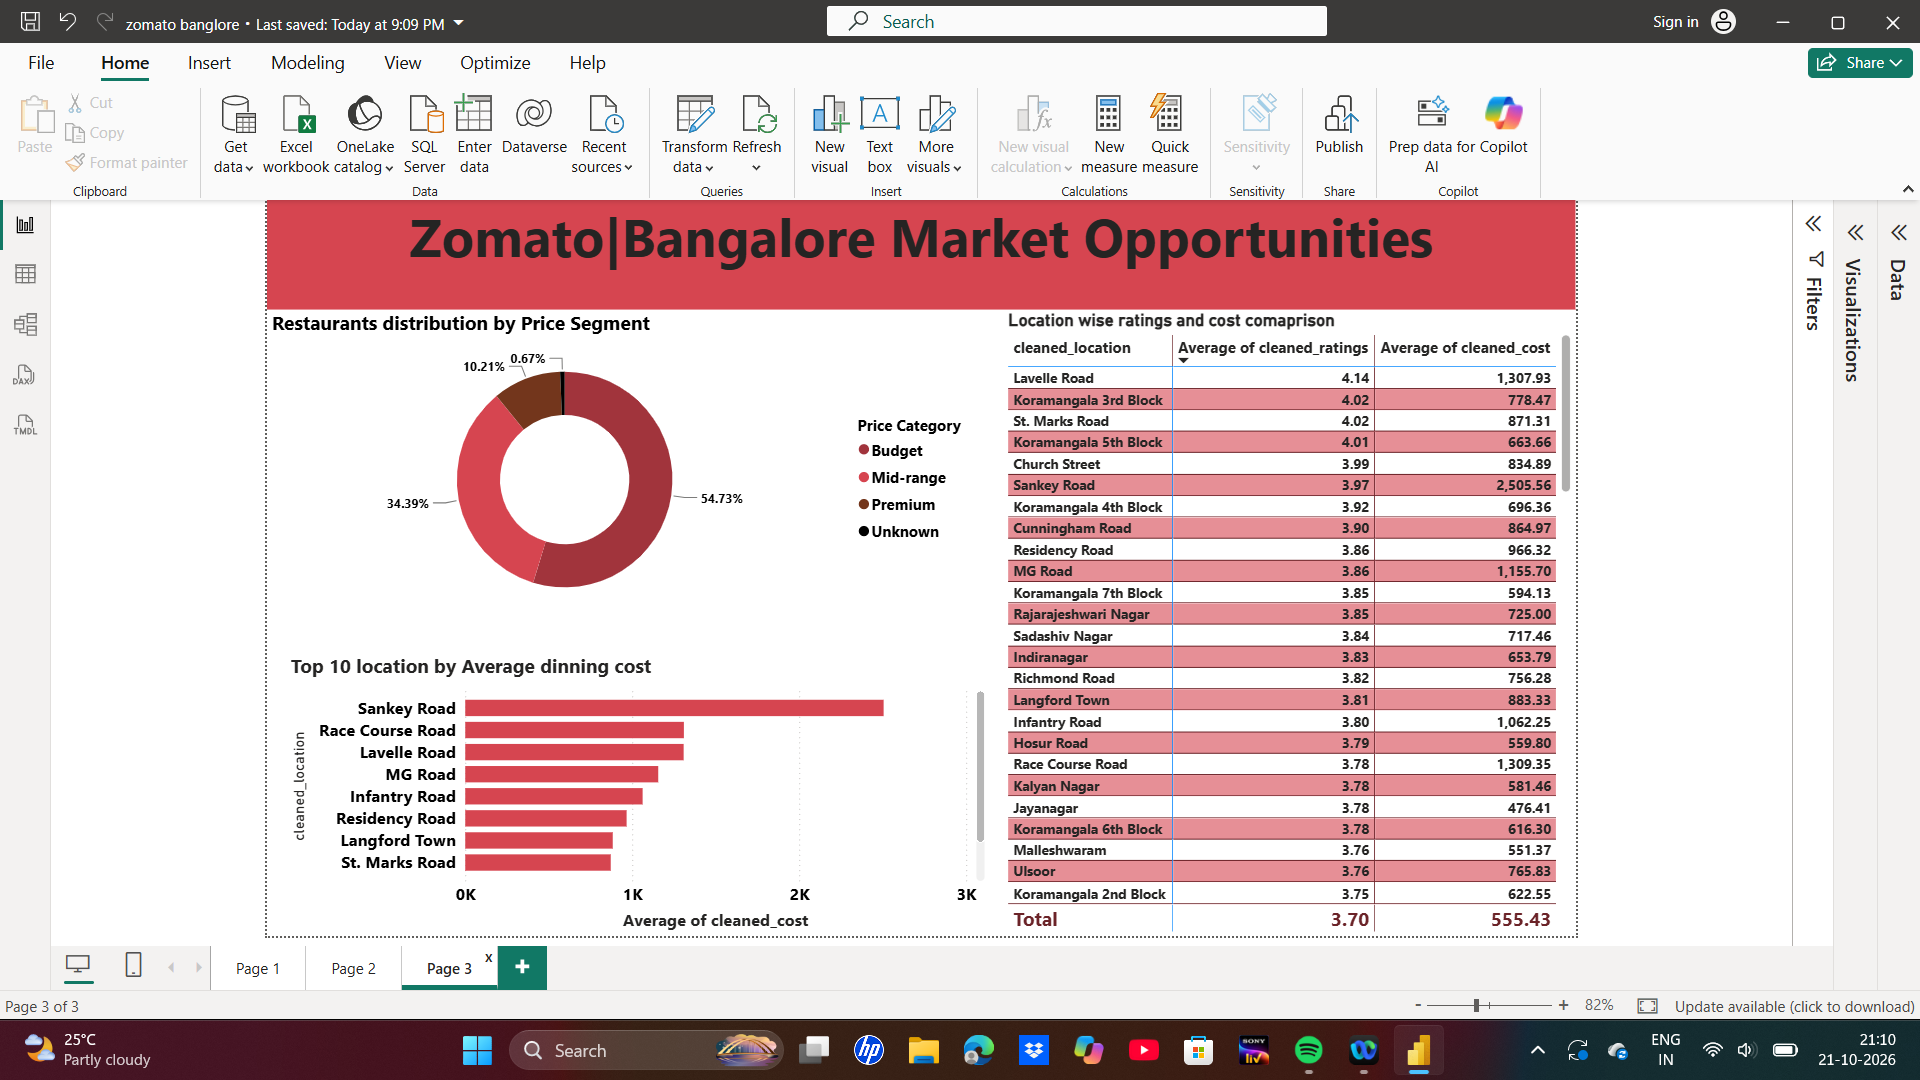

Layout of this report page (visuals, bound fields, positions):
{"tool":"powerbi","page":{"name":"Page 3","canvas":[1280,720],"ordinal":2},"visuals":[{"type":"textbox","title":"Zomato|Bangalore  Market Opportunities","box":[0,0,1280.3,107],"z":0},{"type":"donutChart","title":"Restaurants distribution by Price Segment","fields":{"Category":["zomato.Price Category"],"Y":["CountNonNull(zomato.cleaned_name)"]},"box":[0,107,706.7,307.4],"z":1000},{"type":"clusteredBarChart","title":"Top 10 location by Average dinning cost","fields":{"Category":["zomato.cleaned_location"],"Y":["Avg(zomato.cleaned_cost)"]},"box":[17.8,443.2,688.9,277.2],"z":2000},{"type":"pivotTable","title":"Location wise ratings and cost comaprison","fields":{"Rows":["zomato.cleaned_location"],"Values":["Avg(zomato.cleaned_ratings)","Avg(zomato.cleaned_cost)"]},"box":[720.4,107,559.9,613.4],"z":3000}]}

Visuals, with their boxes on the page's 1280x720 design canvas (x1, y1, x2, y2). These are canvas units, not pixel positions in the 1920x1080 screenshot, which may show the page scaled, cropped or inside an application window:
"Zomato|Bangalore  Market Opportunities" textbox: box(0, 0, 1280, 107)
"Restaurants distribution by Price Segment" donutChart: box(0, 107, 707, 414)
"Top 10 location by Average dinning cost" clusteredBarChart: box(18, 443, 707, 720)
"Location wise ratings and cost comaprison" pivotTable: box(720, 107, 1280, 720)
